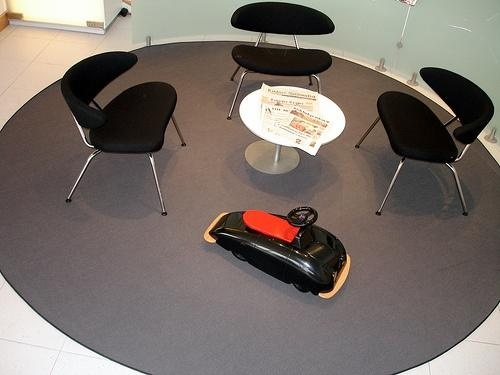chair: (355, 67, 496, 218), (61, 53, 188, 218), (228, 2, 336, 120)
